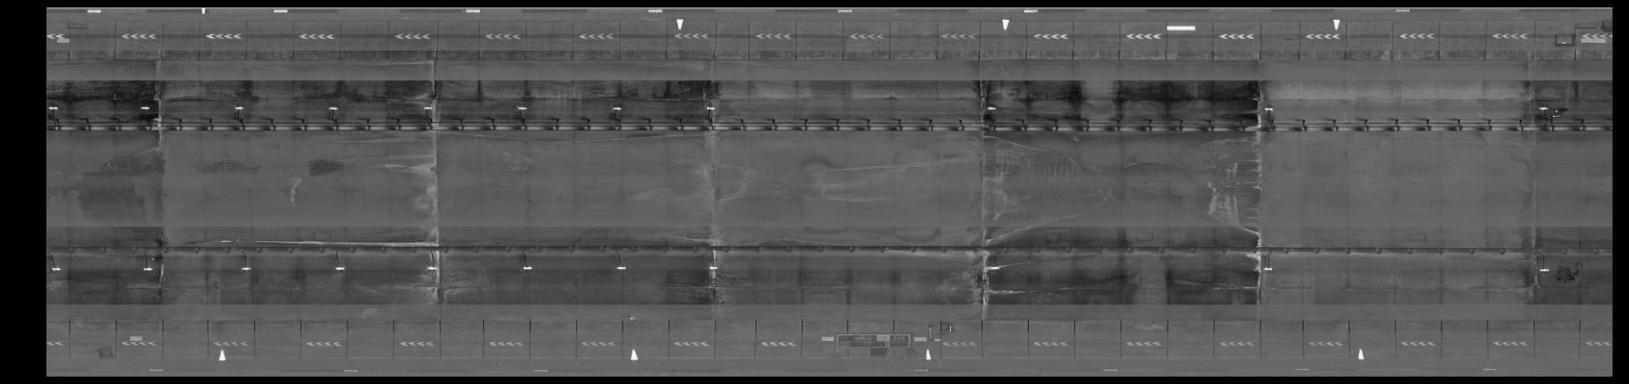light: (606, 100, 624, 114), (231, 102, 252, 113), (237, 263, 257, 275), (418, 103, 438, 114), (611, 262, 630, 274), (1258, 264, 1279, 274), (136, 103, 155, 114), (701, 263, 724, 272), (985, 263, 1008, 272), (1259, 104, 1277, 115), (139, 265, 160, 274), (325, 103, 344, 113), (985, 102, 1000, 114), (1534, 102, 1551, 113), (513, 103, 531, 113), (702, 103, 720, 113), (1535, 266, 1553, 276), (50, 263, 65, 274), (423, 264, 442, 273), (518, 263, 535, 272), (47, 102, 60, 113), (331, 265, 349, 272)
